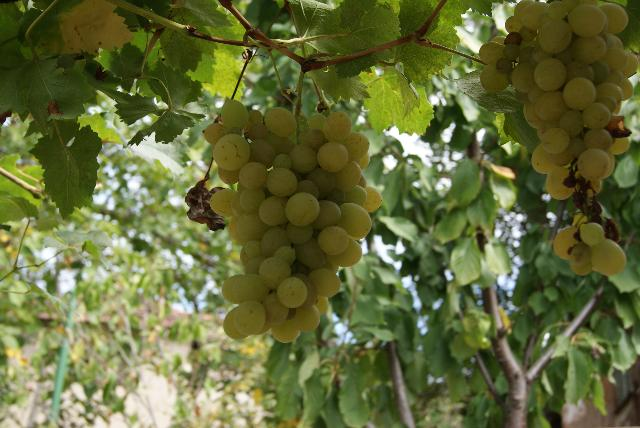grapes: (479, 0, 639, 276), (205, 100, 380, 342)
